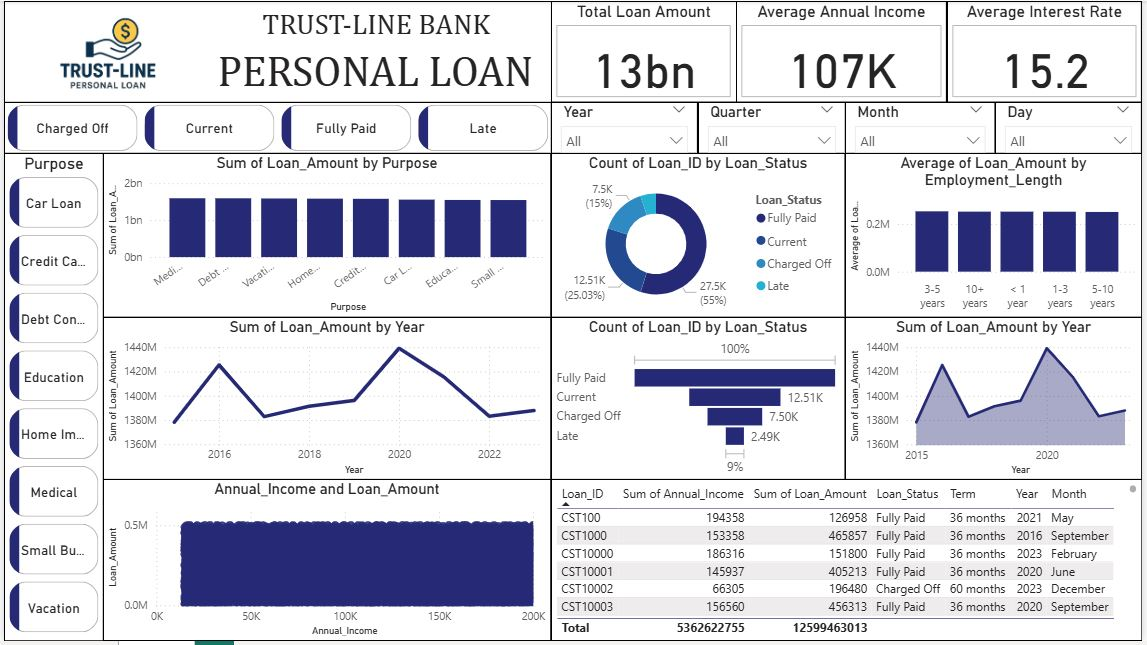

Layout of this report page (visuals, bound fields, positions):
{"tool":"powerbi","page":{"name":"Page 1","canvas":[1280,720],"ordinal":0},"visuals":[{"type":"cardVisual","title":"Total Loan Amount","fields":{"Data":["Sum(Personal Loan.Loan_Amount)"]},"box":[616.5,1.1,207,113],"z":0},{"type":"cardVisual","title":"Average Interest Rate","fields":{"Data":["Avg(Personal Loan.Interest_Rate)"]},"box":[1061.5,1.3,218,113],"z":1000},{"type":"cardVisual","title":"Average Annual Income","fields":{"Data":["Avg(Personal Loan.Annual_Income)"]},"box":[824.6,1.1,236.2,112.5],"z":2000},{"type":"shape","box":[1.3,1.3,614.3,112],"z":3000},{"type":"textbox","box":[235.2,45,379.1,66.8],"z":4000},{"type":"textbox","box":[285.3,2.6,280.2,48.8],"z":5000},{"type":"donutChart","fields":{"Category":["Personal Loan.Loan_Status"],"Y":["Count(Personal Loan.Loan_ID)"]},"box":[616.5,172.1,329,183.4],"z":6000},{"type":"image","box":[1.3,0,233.9,111.8],"z":7000},{"type":"columnChart","fields":{"Category":["Personal Loan.Purpose"],"Y":["Sum(Personal Loan.Loan_Amount)"]},"box":[112.5,172.1,501.8,183],"z":8000},{"type":"columnChart","fields":{"Category":["Personal Loan.Employment_Length"],"Y":["Avg(Personal Loan.Loan_Amount)"]},"box":[947.2,172.1,331.9,183.4],"z":9000},{"type":"advancedSlicerVisual","fields":{"Values":["Personal Loan.Purpose"]},"box":[1.1,172.1,110.2,546.8],"z":10000},{"type":"lineChart","fields":{"Y":["Sum(Personal Loan.Loan_Amount)"],"Category":["Personal Loan.Issue_Date.Variation.Date Hierarchy.Year"]},"box":[112.5,356.6,501.8,181],"z":11000},{"type":"scatterChart","fields":{"X":["Personal Loan.Annual_Income"],"Y":["Personal Loan.Loan_Amount"]},"box":[112.5,538.9,501.8,180],"z":12000},{"type":"advancedSlicerVisual","fields":{"Values":["Personal Loan.Loan_Status"]},"box":[1.1,114.8,614.2,56.2],"z":13000},{"type":"slicer","fields":{"Values":["Personal Loan.Issue_Date.Variation.Date Hierarchy.Year"]},"box":[616.5,114.8,164,56.2],"z":14000},{"type":"slicer","fields":{"Values":["Personal Loan.Issue_Date.Variation.Date Hierarchy.Quarter"]},"box":[781.9,114.8,164.2,56.2],"z":15000},{"type":"slicer","fields":{"Values":["Personal Loan.Issue_Date.Variation.Date Hierarchy.Month"]},"box":[947.2,114.8,166.5,56.2],"z":16000},{"type":"slicer","fields":{"Values":["Personal Loan.Issue_Date.Variation.Date Hierarchy.Day"]},"box":[1116,114.8,163.1,56.2],"z":17000},{"type":"funnel","fields":{"Category":["Personal Loan.Loan_Status"],"Y":["CountNonNull(Personal Loan.Loan_ID)"]},"box":[616.5,356.6,328.5,181.1],"z":18000},{"type":"tableEx","fields":{"Values":["Personal Loan.Loan_ID","Sum(Personal Loan.Annual_Income)","Sum(Personal Loan.Loan_Amount)","Personal Loan.Loan_Status","Personal Loan.Term","Personal Loan.Issue_Date.Variation.Date Hierarchy.Year","Personal Loan.Issue_Date.Variation.Date Hierarchy.Month"]},"box":[616.5,538.9,662.6,180],"z":19000},{"type":"stackedAreaChart","fields":{"Category":["Personal Loan.Issue_Date.Variation.Date Hierarchy.Year","Personal Loan.Issue_Date.Variation.Date Hierarchy.Month"],"Y":["Sum(Personal Loan.Loan_Amount)"]},"box":[947.2,356.6,331.9,181.1],"z":20000}]}

Visuals, with their boxes in screenshot pixels (x1, y1, x2, y2), scaled from the page's 1280x720 canvas onto the 1147x645 screenshot:
"Total Loan Amount" cardVisual: 552/1/738/102
"Average Interest Rate" cardVisual: 951/1/1146/102
"Average Annual Income" cardVisual: 739/1/951/102
shape: 1/1/552/101
textbox: 211/40/550/100
textbox: 256/2/507/46
donutChart - Personal Loan.Loan_Status x Count(Personal Loan.Loan_ID): 552/154/847/318
image: 1/0/211/100
columnChart - Personal Loan.Purpose x Sum(Personal Loan.Loan_Amount): 101/154/550/318
columnChart - Personal Loan.Employment_Length x Avg(Personal Loan.Loan_Amount): 849/154/1146/318
advancedSlicerVisual - Personal Loan.Purpose: 1/154/100/644
lineChart - Sum(Personal Loan.Loan_Amount) x Personal Loan.Issue_Date.Variation.Date Hierarchy.Year: 101/319/550/482
scatterChart - Personal Loan.Annual_Income x Personal Loan.Loan_Amount: 101/483/550/644
advancedSlicerVisual - Personal Loan.Loan_Status: 1/103/551/153
slicer - Personal Loan.Issue_Date.Variation.Date Hierarchy.Year: 552/103/699/153
slicer - Personal Loan.Issue_Date.Variation.Date Hierarchy.Quarter: 701/103/848/153
slicer - Personal Loan.Issue_Date.Variation.Date Hierarchy.Month: 849/103/998/153
slicer - Personal Loan.Issue_Date.Variation.Date Hierarchy.Day: 1000/103/1146/153
funnel - Personal Loan.Loan_Status x CountNonNull(Personal Loan.Loan_ID): 552/319/847/482
tableEx - Personal Loan.Loan_ID x Sum(Personal Loan.Annual_Income): 552/483/1146/644
stackedAreaChart - Personal Loan.Issue_Date.Variation.Date Hierarchy.Year x Personal Loan.Issue_Date.Variation.Date Hierarchy.Month: 849/319/1146/482
